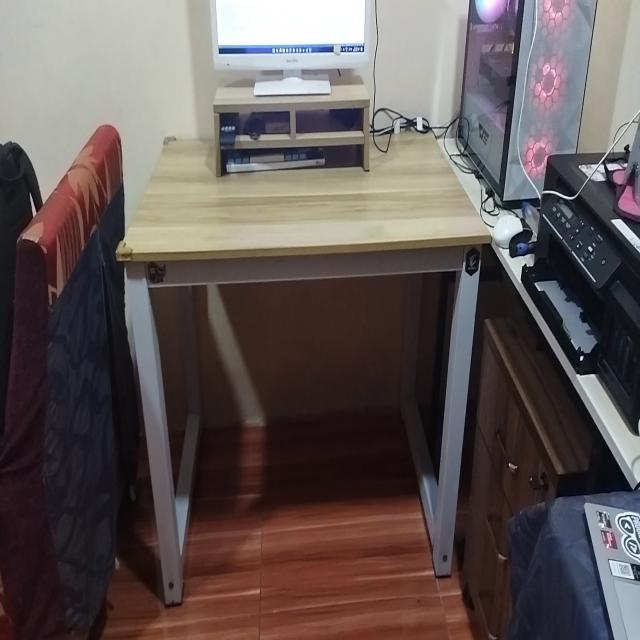table: (120, 112, 492, 608)
